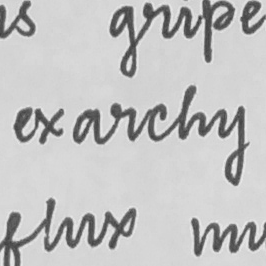a: (70, 105, 102, 148)
c: (143, 101, 171, 144)
e: (11, 105, 34, 144)
h: (175, 84, 209, 141)
r: (106, 101, 140, 145)
x: (35, 104, 66, 147)
y: (213, 104, 246, 187)
